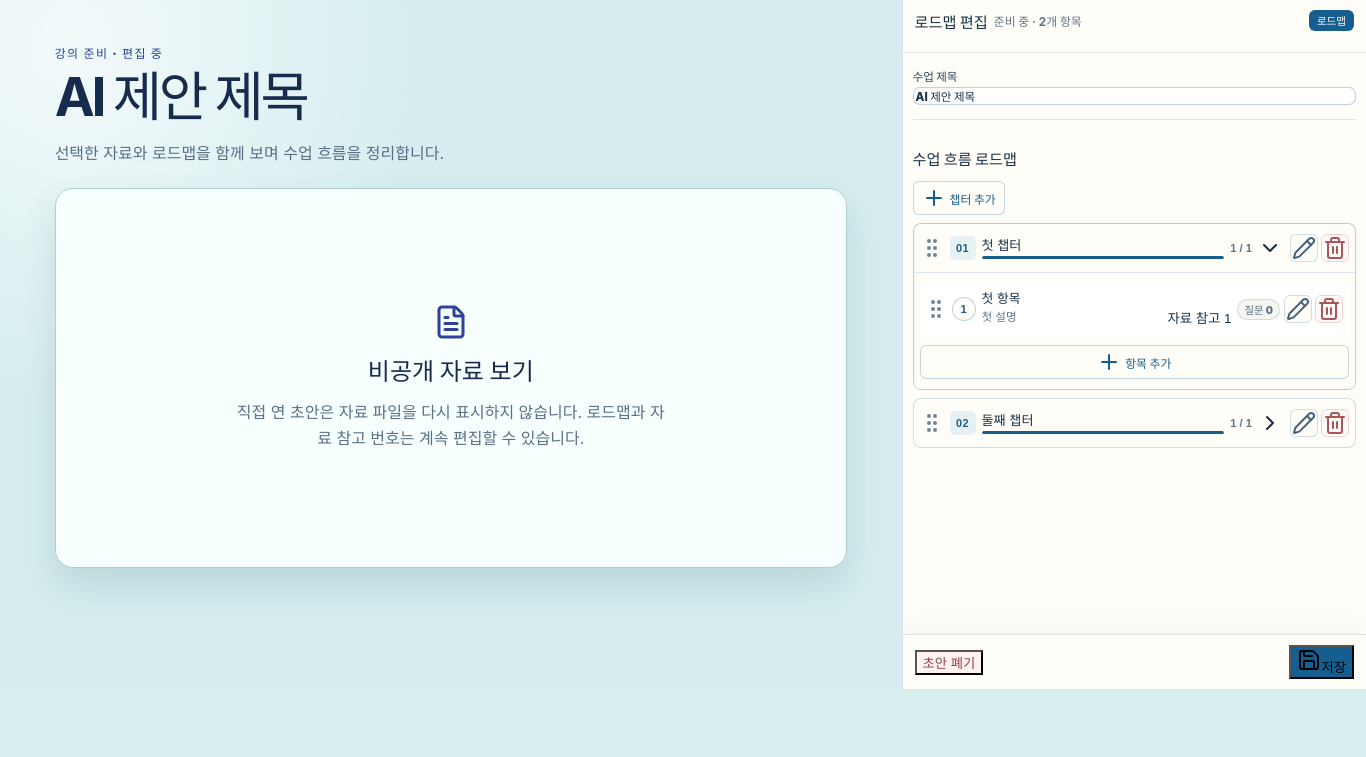
MaterialCourseDraftEditorPage › 폐기는 확인 후 상태만 DISCARDED로 바꾼다
Check: the field showing "AI 제안 제목" is shown, box x1=913 y1=87 x2=1356 y2=105
Click the button "초안 폐기".
click(949, 662)  # box x1=915 y1=650 x2=983 y2=674
(page scrolled)
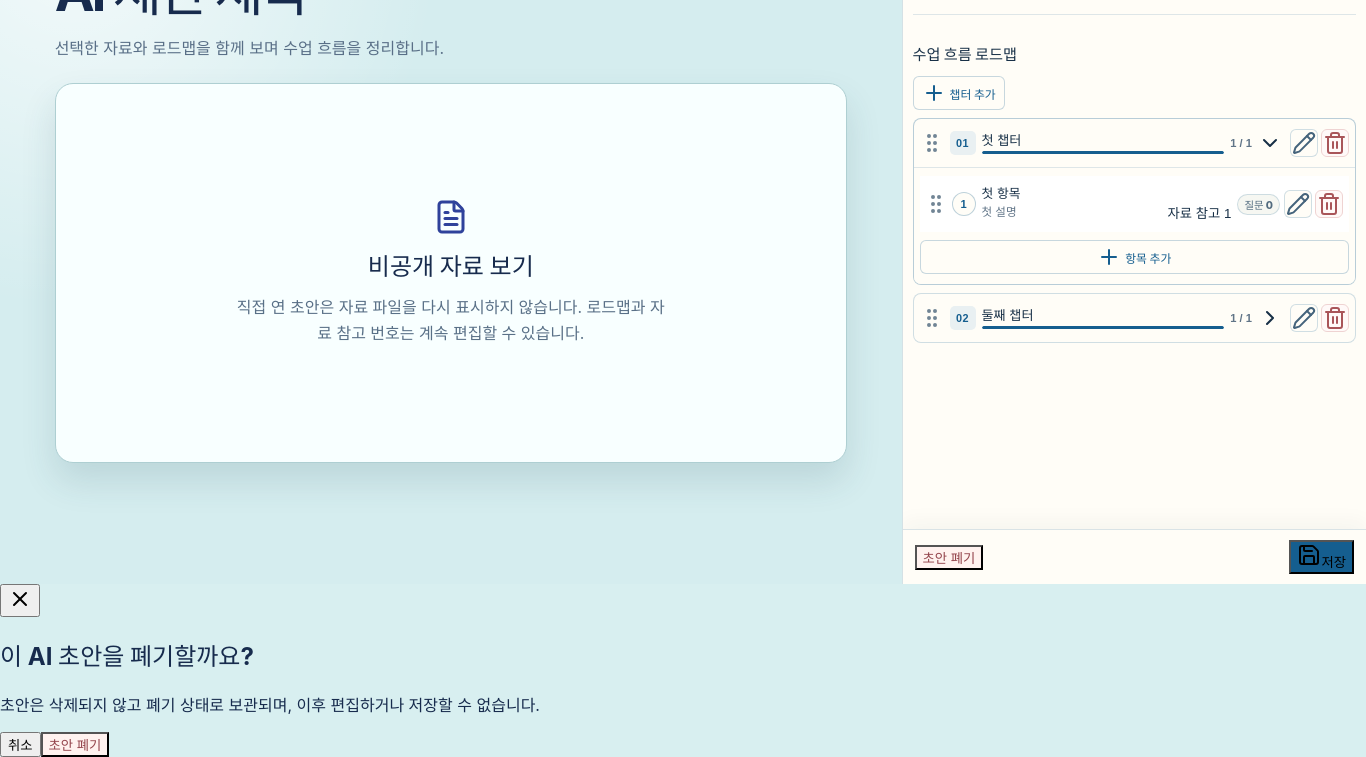
Click the button "초안 폐기" below "이 AI 초안을 폐기할까요?".
click(75, 744)  # box x1=40 y1=732 x2=109 y2=756
(page scrolled)
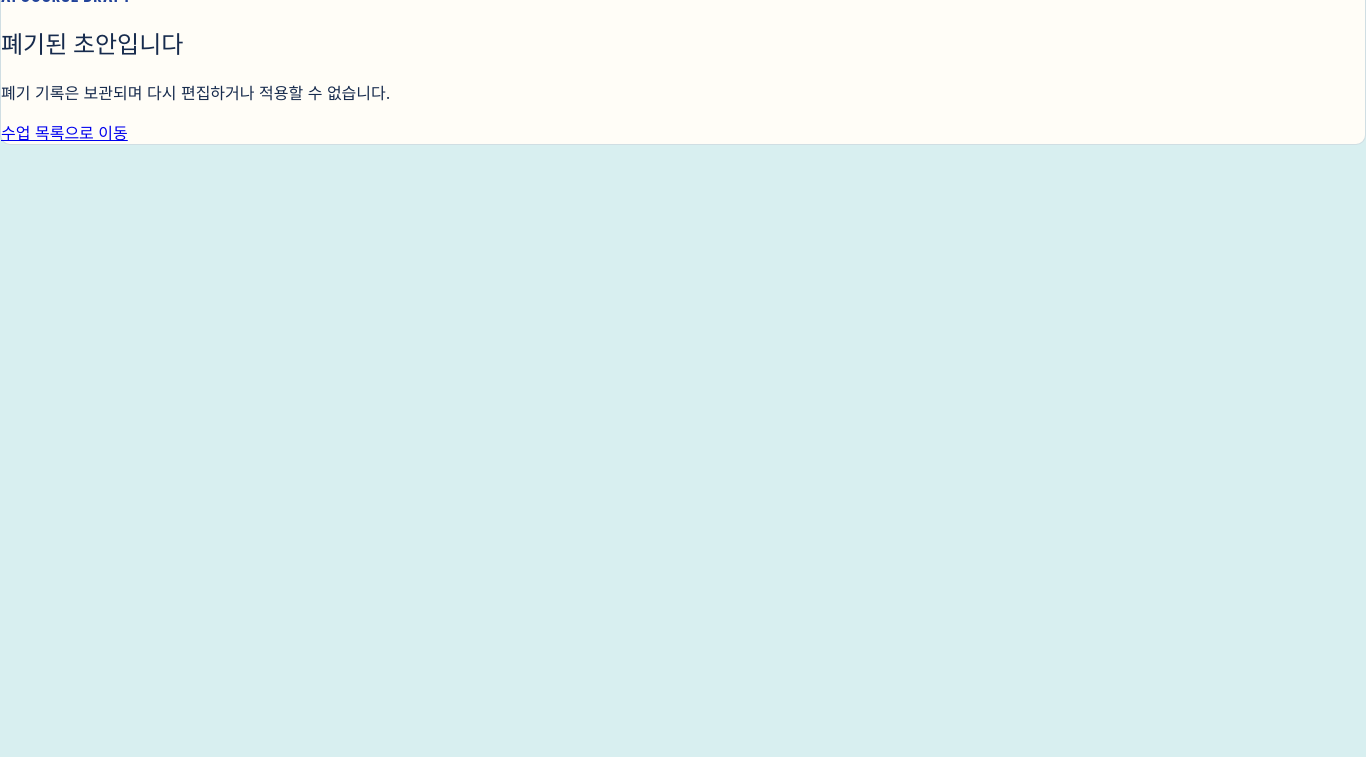
Check: the heading "폐기된 초안입니다" is shown, box x1=1 y1=30 x2=183 y2=59
